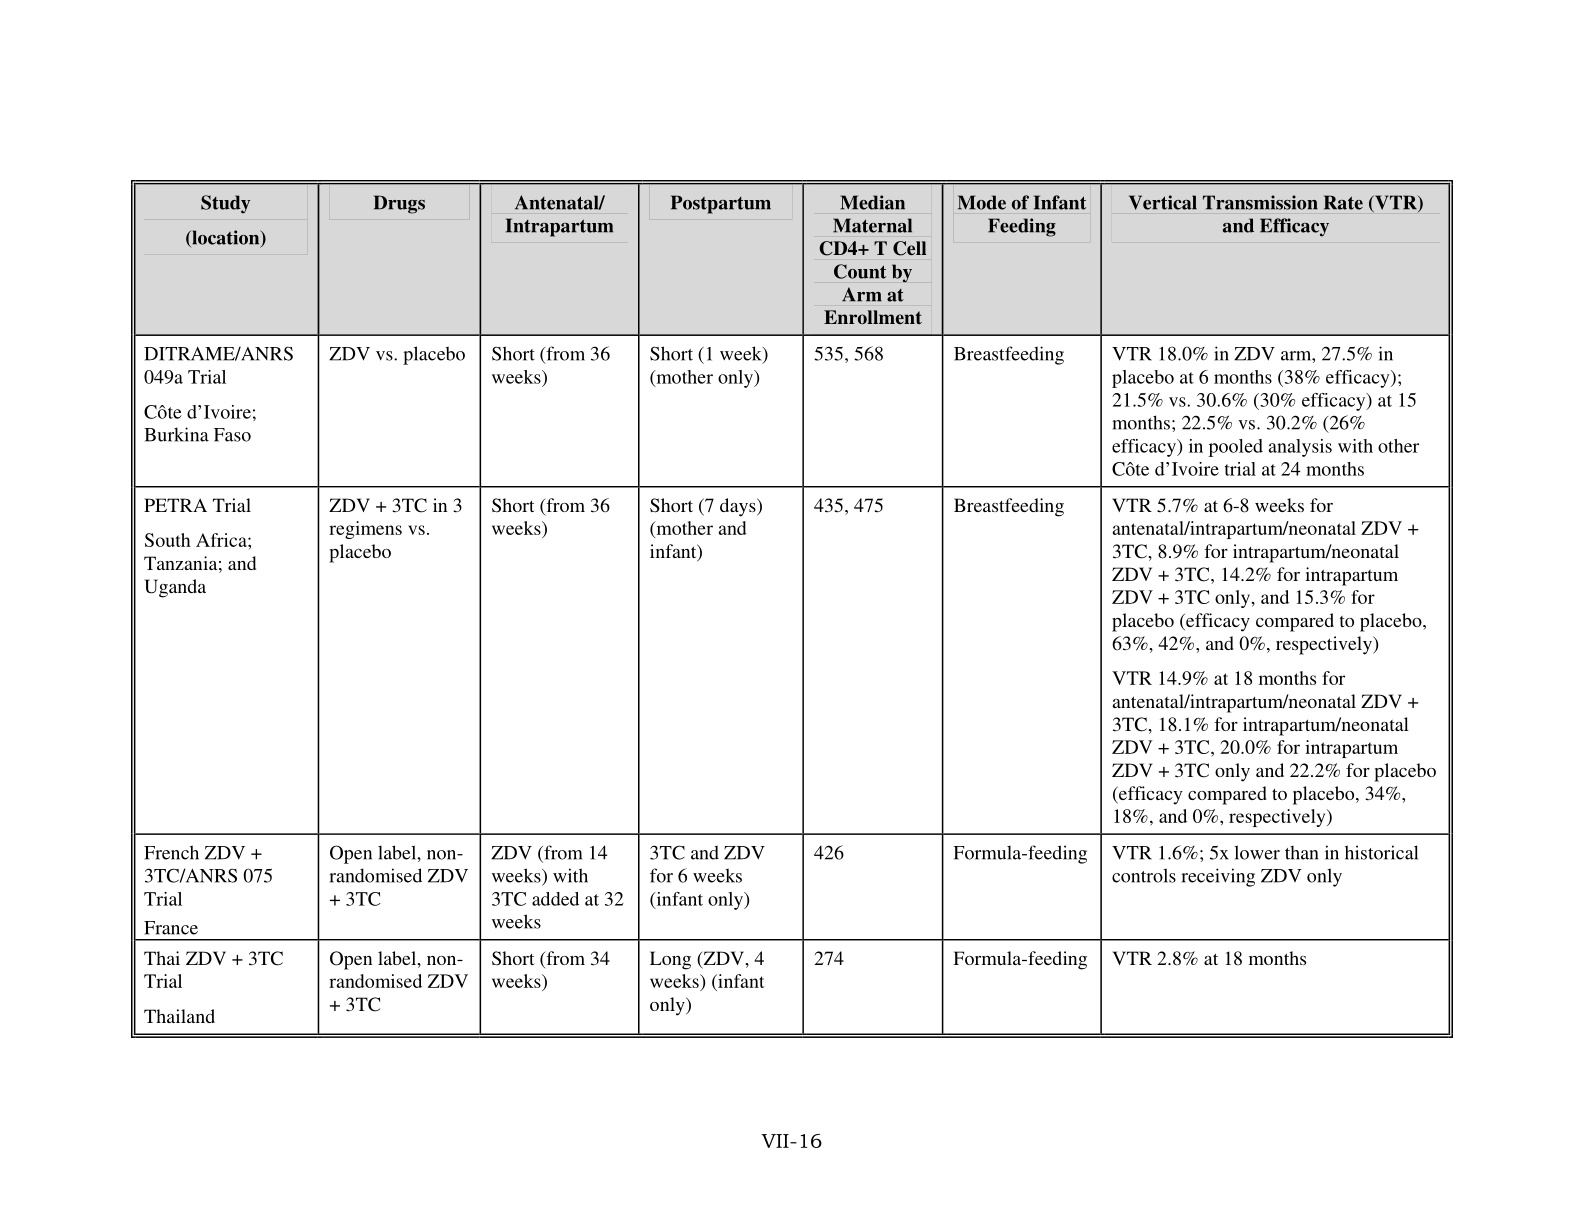full_lined: (129, 179, 1453, 1039)
